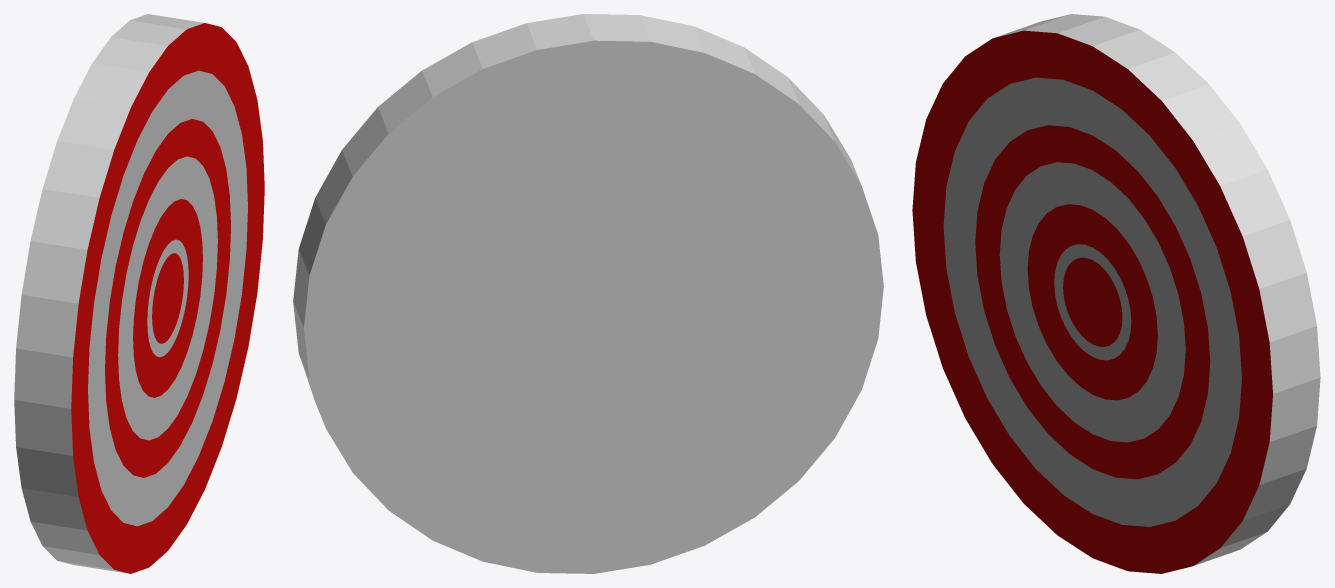
File: Alvo_02.fbx
3 views of the same model, side by side, from view 1: azimuth 30°, elevation 25°; view 2: azimuth 150°, elevation 25°; view 3: azimuth 270°, elevation 25° (orthographic). The views are drawn at different scales.
Visible parts, largest first — view 1: Cylinder; view 2: Cylinder; view 3: Cylinder.
Boxes of the visible parts, x1,y1,x2,y2 form: Cylinder: (14,14,264,573); Cylinder: (293,14,883,573); Cylinder: (912,14,1320,573).
Bounding box in the file's own units: 437 × 521 × 376.
